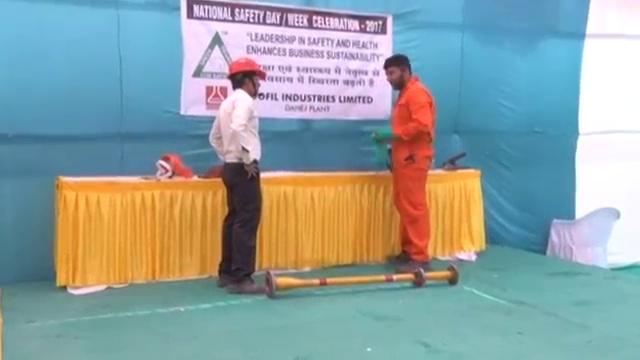helmet: (228, 57, 268, 82)
helmet_off: (384, 53, 412, 90)
helmet_on: (228, 56, 268, 98)
person: (210, 55, 266, 292), (383, 52, 435, 273)
